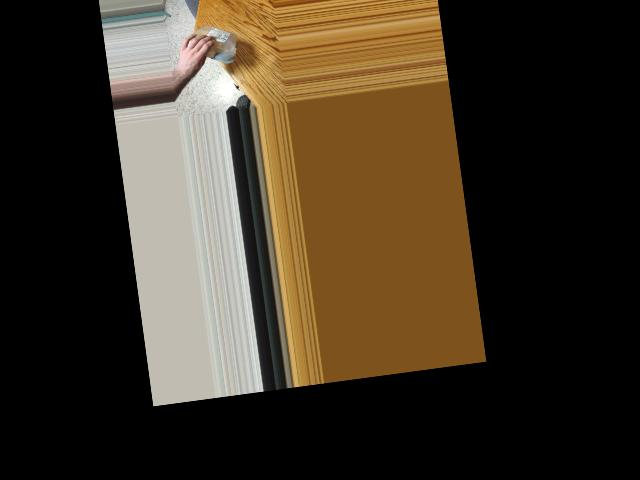cheese: (192, 28, 237, 63)
